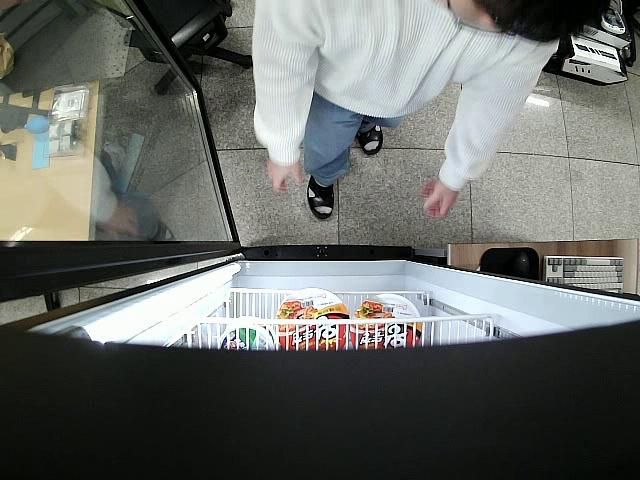00_hand: (420, 177, 459, 220), (265, 154, 304, 196)
